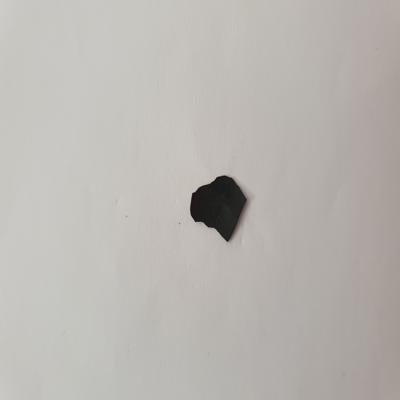plastic: (186, 170, 252, 249)
